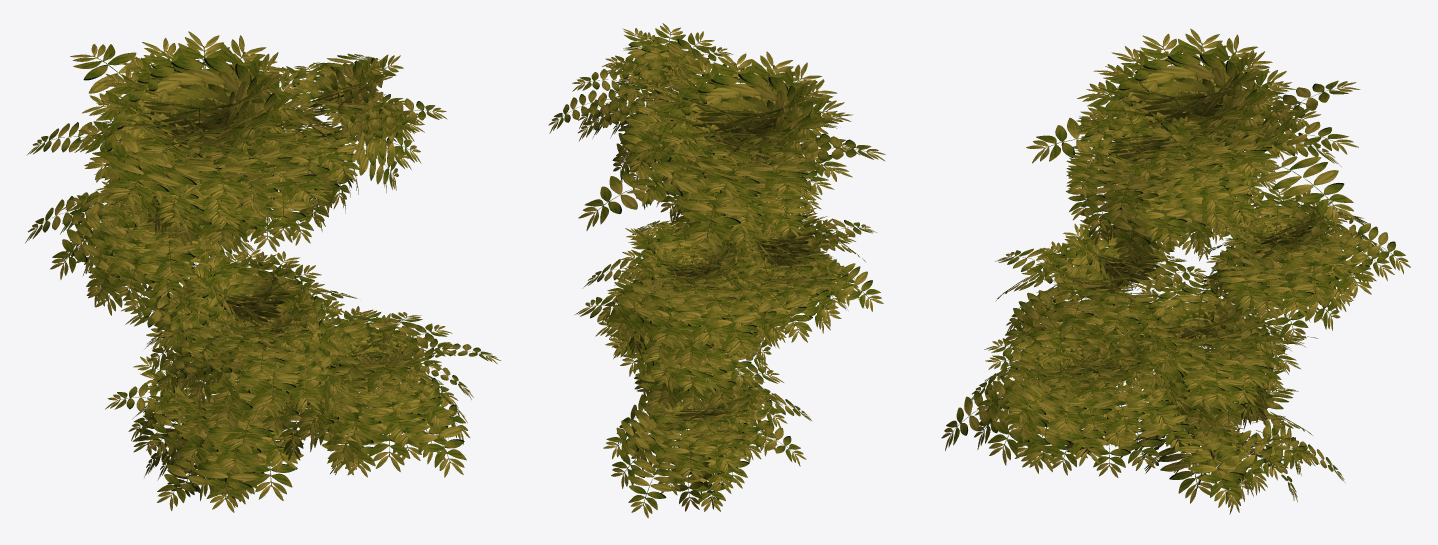
Rendered from Foliage.fbx.
3 renders of one model, left to right at view 1: azimuth 30°, elevation 25°; view 2: azimuth 150°, elevation 25°; view 3: azimuth 270°, elevation 25°, orthographic. The views are drawn at different scales.
Parts seen in each view (by area): view 1: Foliage; view 2: Foliage; view 3: Foliage.
Part boxes in pixels (bbox=[...]): Foliage: bbox=[25, 31, 500, 512]; Foliage: bbox=[548, 23, 885, 518]; Foliage: bbox=[941, 28, 1410, 514].
Size of the model in its own units: 0.4205 by 0.5024 by 0.4953.
